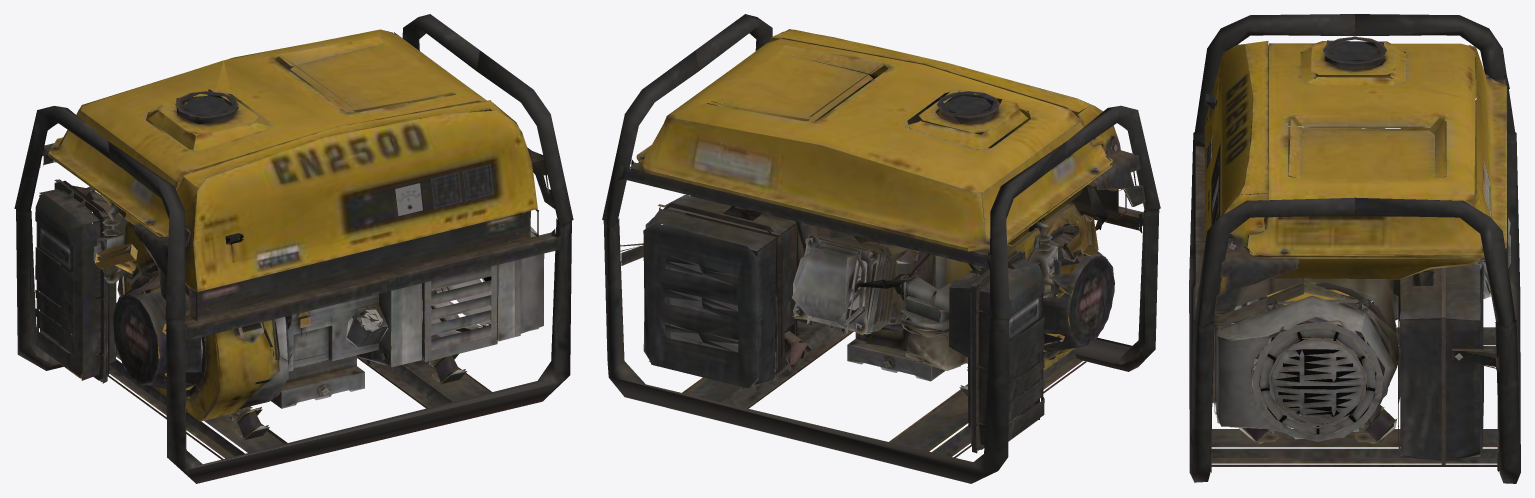
Rendered from portable_generator.glb.
3 views of the same model, side by side, from view 1: azimuth 30°, elevation 25°; view 2: azimuth 150°, elevation 25°; view 3: azimuth 270°, elevation 25° (orthographic).
Parts seen in each view (by area): view 1: portable_generator; view 2: portable_generator; view 3: portable_generator.
Boxes of the visible parts, left/top/right/bottom form: portable_generator: left=14, top=14, right=573, bottom=483; portable_generator: left=602, top=14, right=1160, bottom=483; portable_generator: left=1189, top=14, right=1520, bottom=483.
Bounding box in the file's own units: 0.8217 × 0.5768 × 0.5656.
Materials: 2 (2 with a texture image).
